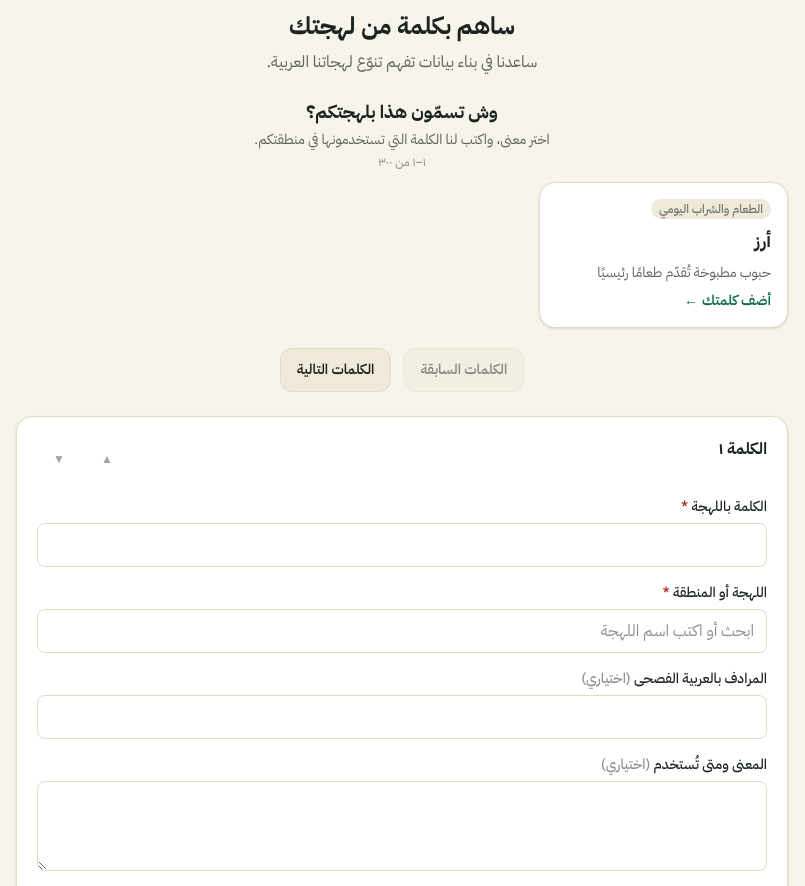
Test case: ContributionForm › shows the batch range indicator and lets a visitor request the next batch
The image size is (805, 886).
Expected: the text "١–١ من ٣٠٠" is shown, [378,153,426,171]
Click the button "الكلمات التالية" at (336, 370), box [280,348,391,392]
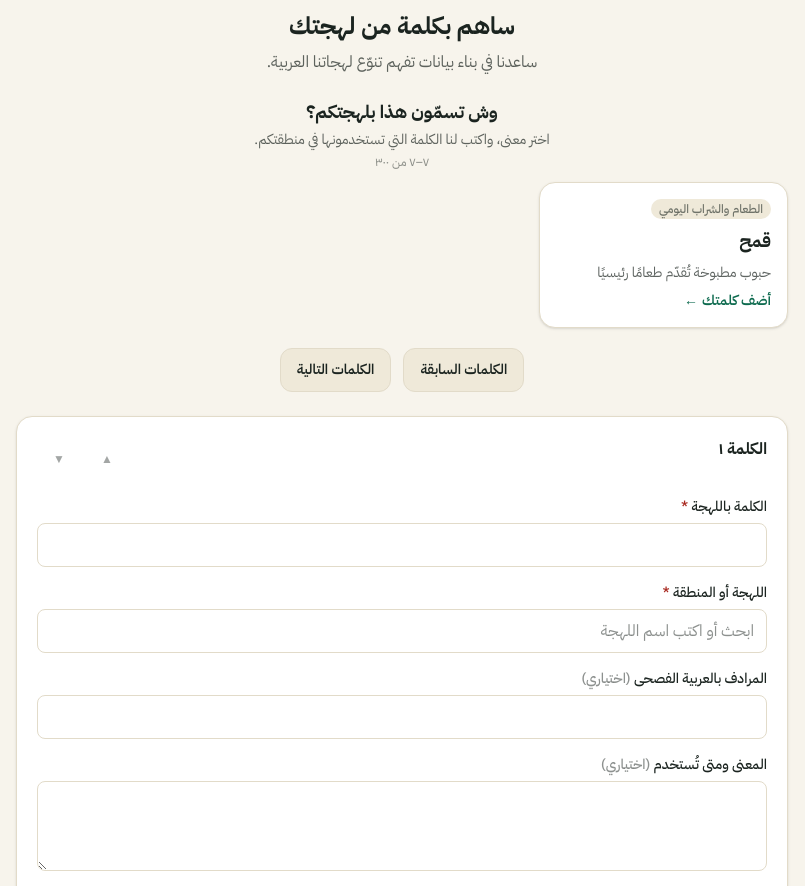
Result: the text "قمح" is shown at [740,227,771,255]
